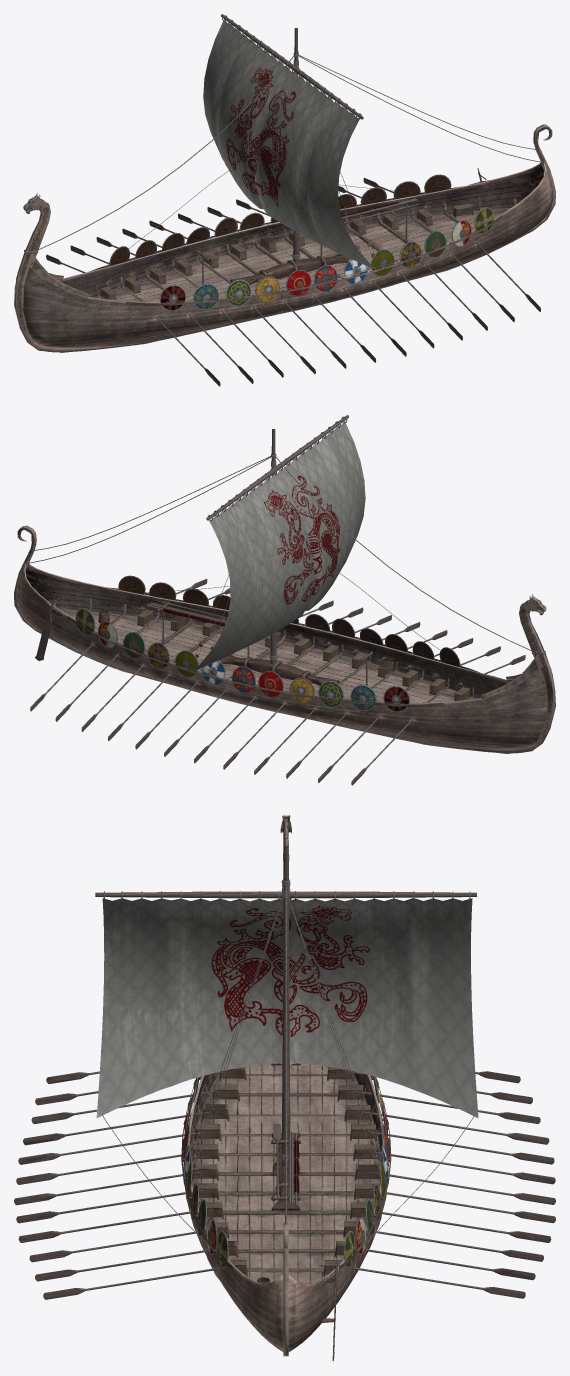
The model's file is viking.glb.
The picture shows the model from 3 angles, top to bottom: view 1: azimuth 30°, elevation 25°; view 2: azimuth 150°, elevation 25°; view 3: azimuth 270°, elevation 25°; orthographic projection. The views are drawn at different scales.
Visible parts, largest first — view 1: g.106, g.081, g.105, g.104, g.064, g.004, g.065, g.094, g.096, g.089, g.093, g.095 (+11 smaller); view 2: g.106, g.081, g.105, g.104, g.064, g.004, g.065, g.094, g.089, g.093, g.096, g.085 (+11 smaller); view 3: g.081, g.105, g.106, g.064, g.082, g.083, g.001, g.104, g.004, g.087, g.088, g.012 (+18 smaller).
Part boxes in pixels (bbox=[...]): g.106: bbox=[20, 162, 552, 348]; g.081: bbox=[203, 19, 376, 270]; g.105: bbox=[95, 208, 510, 301]; g.104: bbox=[14, 124, 555, 352]; g.064: bbox=[96, 196, 516, 301]; g.004: bbox=[89, 186, 502, 305]; g.065: bbox=[230, 253, 350, 284]; g.094: bbox=[214, 217, 311, 296]; g.096: bbox=[162, 233, 251, 306]; g.089: bbox=[360, 187, 446, 258]; g.093: bbox=[239, 212, 337, 292]; g.095: bbox=[186, 227, 280, 303]; g.106: bbox=[16, 563, 552, 749]; g.081: bbox=[192, 421, 365, 671]; g.105: bbox=[59, 609, 474, 702]; g.104: bbox=[14, 525, 555, 753]; g.064: bbox=[53, 598, 473, 702]; g.004: bbox=[67, 587, 479, 707]; g.065: bbox=[219, 655, 339, 685]; g.094: bbox=[258, 618, 355, 697]; g.089: bbox=[123, 588, 208, 659]; g.093: bbox=[232, 614, 329, 693]; g.096: bbox=[318, 634, 407, 707]; g.085: bbox=[350, 641, 434, 711]; g.081: bbox=[96, 898, 478, 1118]; g.105: bbox=[190, 1063, 382, 1319]; g.106: bbox=[183, 898, 387, 1351]; g.064: bbox=[190, 1071, 381, 1271]; g.082: bbox=[95, 891, 476, 898]; g.083: bbox=[281, 846, 290, 1166]; g.001: bbox=[190, 897, 382, 1177]; g.104: bbox=[283, 821, 289, 1356]; g.004: bbox=[181, 1086, 391, 1269]; g.087: bbox=[217, 1230, 355, 1268]; g.088: bbox=[206, 1217, 366, 1254]; g.012: bbox=[23, 1112, 209, 1145].
Size of the model in its own units: 1 by 0.4948 by 0.6386.
Materials: 13 (13 with a texture image).
